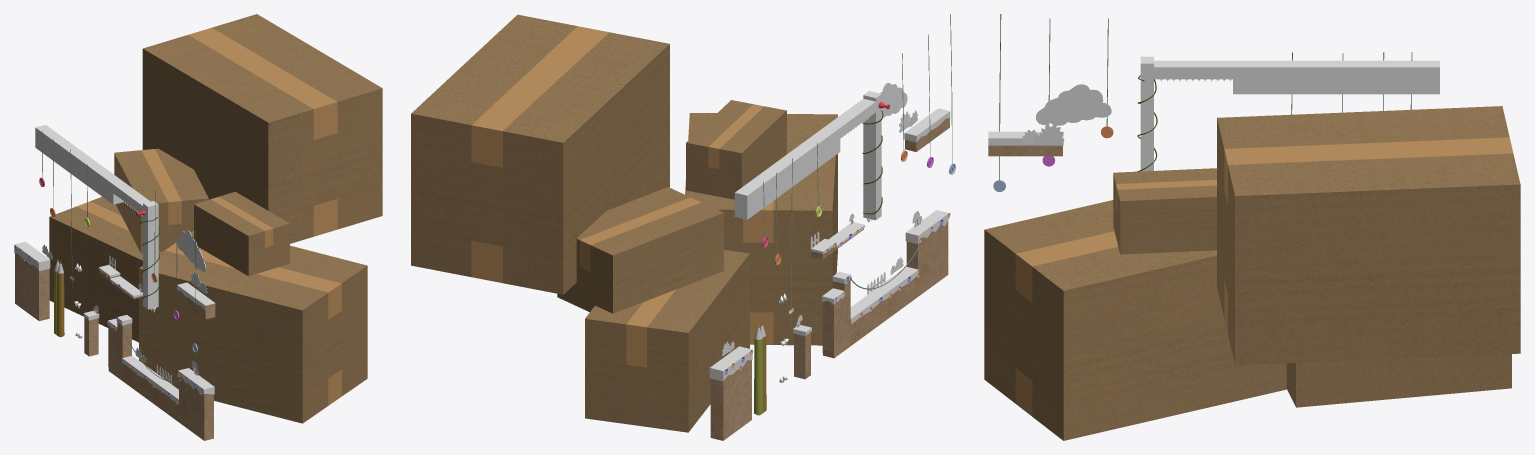
File: Pantalla_8.DEF.fbx
3 renders of one model, left to right at view 1: azimuth 30°, elevation 25°; view 2: azimuth 150°, elevation 25°; view 3: azimuth 270°, elevation 25°, orthographic. The views are drawn at different scales.
Parts seen in each view (by area): view 1: Caja_1.001, Caja_1, Techo/Suelo.003, Cube.013, Cube.017, Cube.014, Pantalla_Antes_Obtención_rana.004, Cola.003, Nube.004; view 2: Caja_1.001, Cube.013, Techo/Suelo.003, Caja_1, Cube.014, Cube.017, Pantalla_Antes_Obtención_rana.004, Cola.003, Nube.004; view 3: Caja_1.001, Caja_1, Techo/Suelo.003, Cube.013, Cube.017, Nube.004, Pantalla_Antes_Obtención_rana.004, Plane.089.
Part boxes in pixels (x1,y1,x2,y2): Caja_1.001: (142, 14, 382, 243); Caja_1: (139, 230, 367, 423); Techo/Suelo.003: (15, 125, 215, 440); Cube.013: (49, 197, 162, 342); Cube.017: (194, 191, 289, 276); Cube.014: (114, 148, 208, 253); Pantalla_Antes_Obtención_rana.004: (14, 241, 215, 403); Cola.003: (54, 259, 64, 337); Nube.004: (177, 230, 205, 272); Caja_1.001: (411, 14, 669, 294); Cube.013: (585, 250, 749, 432); Techo/Suelo.003: (710, 91, 949, 440); Caja_1: (685, 113, 837, 345); Cube.014: (557, 187, 723, 313); Cube.017: (686, 100, 786, 199); Pantalla_Antes_Obtención_rana.004: (709, 108, 950, 381); Cola.003: (754, 322, 766, 415); Nube.004: (880, 82, 907, 117); Caja_1.001: (1217, 106, 1520, 365); Caja_1: (984, 200, 1286, 440); Techo/Suelo.003: (988, 56, 1439, 171); Cube.013: (1286, 354, 1511, 407); Cube.017: (1113, 168, 1216, 254); Nube.004: (1035, 84, 1111, 125); Pantalla_Antes_Obtención_rana.004: (988, 131, 1063, 145); Plane.089: (1022, 124, 1064, 143).
Size of the model in its own units: 6795 by 5341 by 8533.
